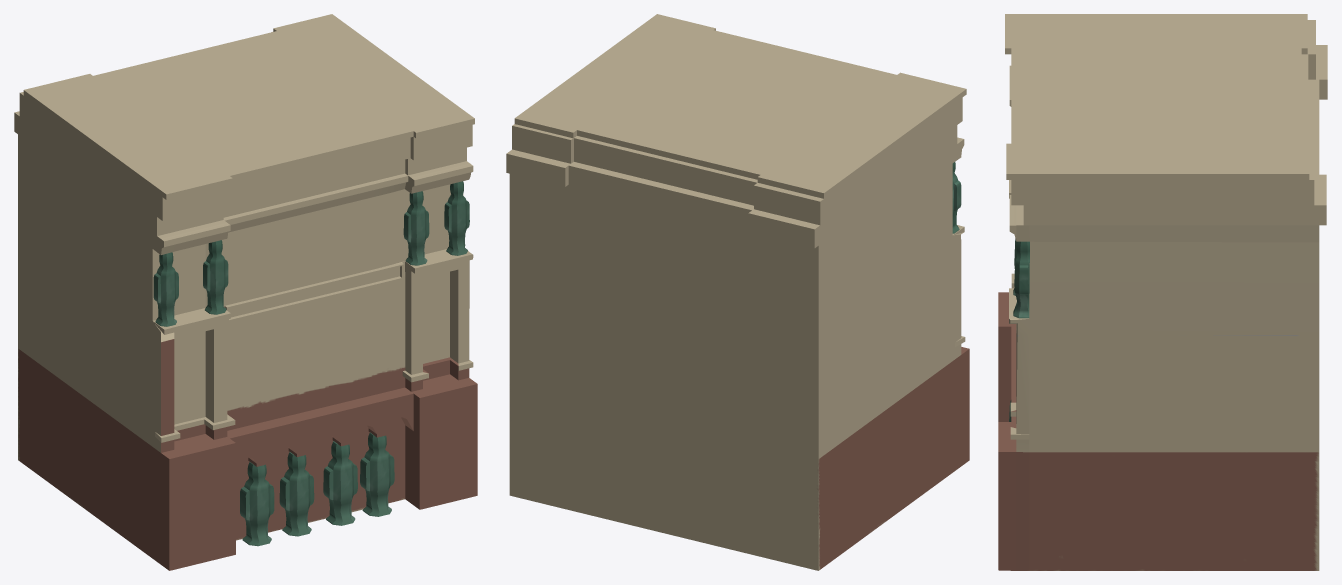
File: WINKEL VAN SINKEL.fbx
3 renders of one model, left to right at view 1: azimuth 30°, elevation 25°; view 2: azimuth 150°, elevation 25°; view 3: azimuth 270°, elevation 25°, orthographic. The views are drawn at different scales.
Parts seen in each view (by area): view 1: pCube10; view 2: pCube10; view 3: pCube10.
Part boxes in pixels (x1,y1,x2,y2): pCube10: (14,14,477,570); pCube10: (506,14,969,570); pCube10: (998,14,1327,570).
Size of the model in its own units: 10.54 by 12.11 by 9.07.
1 material, 1 textured.
